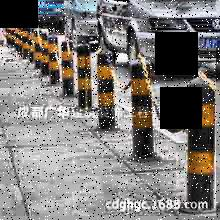bench: (126, 52, 159, 158), (92, 45, 119, 133)
